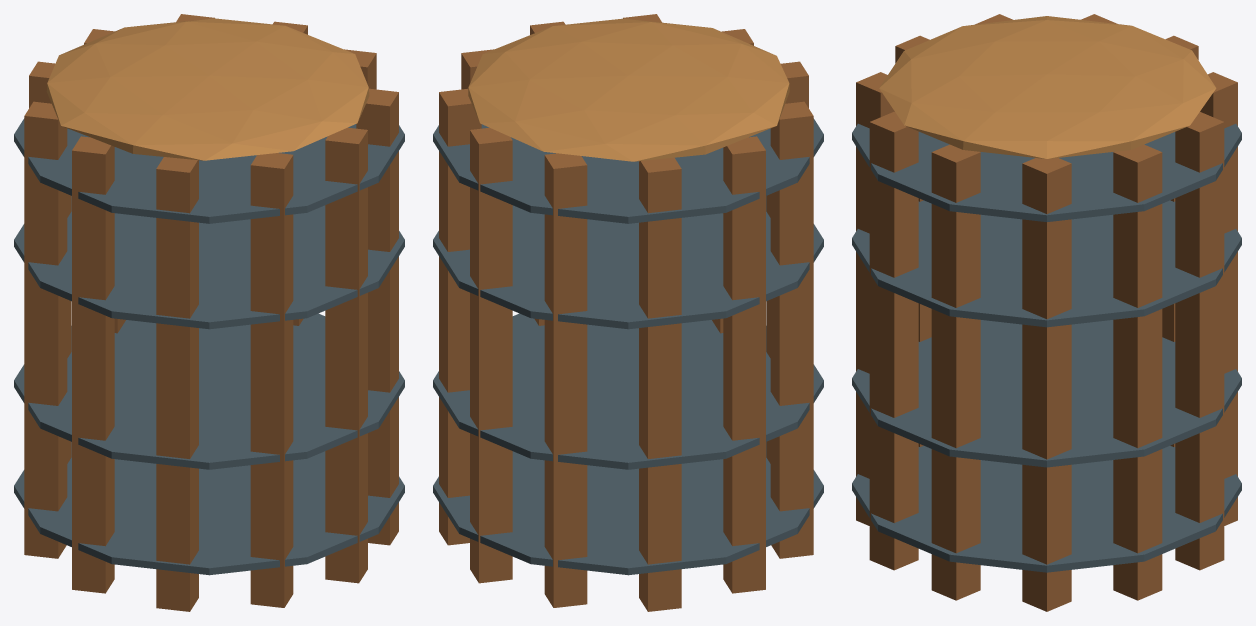
Rendered from barrel_large.glb.
3 renders of one model, left to right at view 1: azimuth 30°, elevation 25°; view 2: azimuth 150°, elevation 25°; view 3: azimuth 270°, elevation 25°, orthographic.
Visible parts, largest first — view 1: barrel_large.001; view 2: barrel_large.001; view 3: barrel_large.001.
Boxes of the visible parts, x1=… form: barrel_large.001: x1=14, y1=14, x2=404, y2=611; barrel_large.001: x1=433, y1=14, x2=823, y2=611; barrel_large.001: x1=852, y1=14, x2=1241, y2=611.
Size of the model in its own units: 0.6818 by 0.88 by 0.6818.
